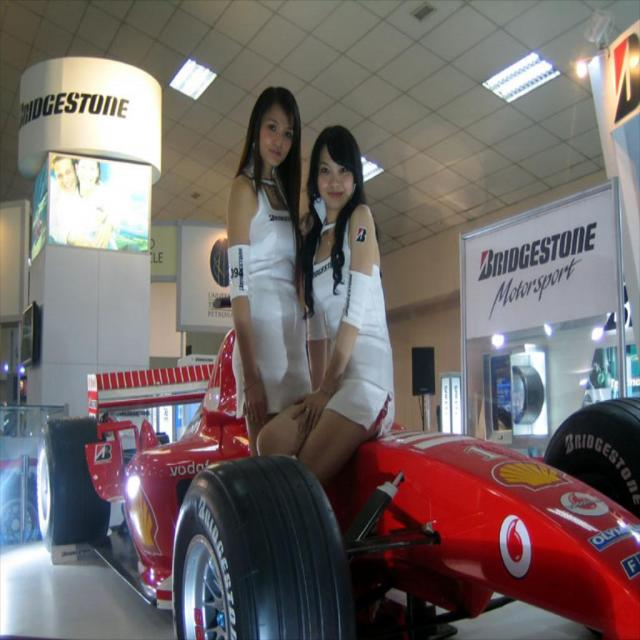other: (36, 328, 638, 638)
